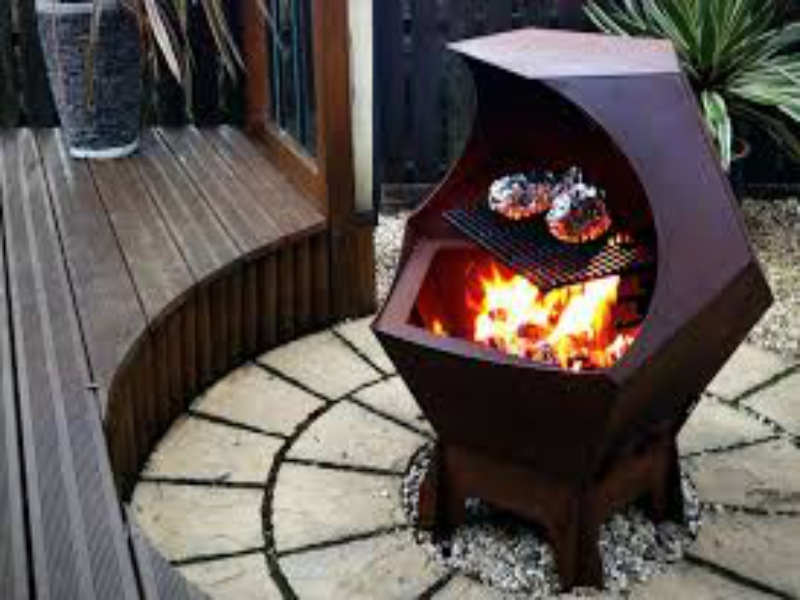fire: (456, 274, 616, 365), (428, 310, 444, 339)
